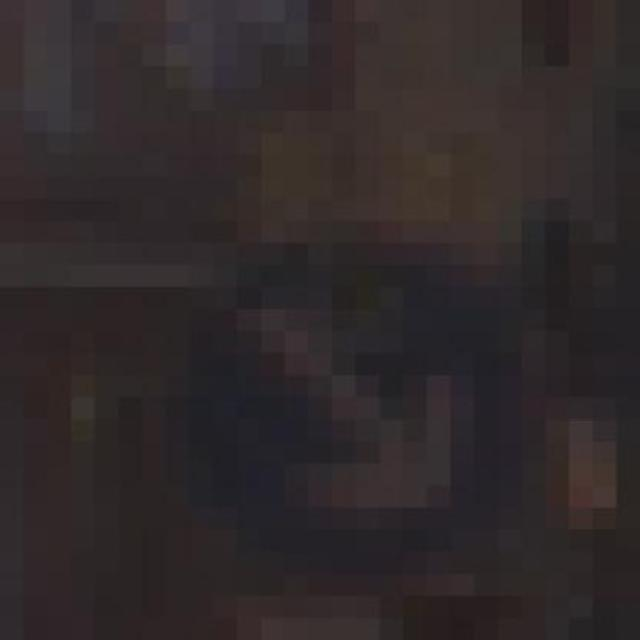Keep-Right: (119, 220, 522, 552)
